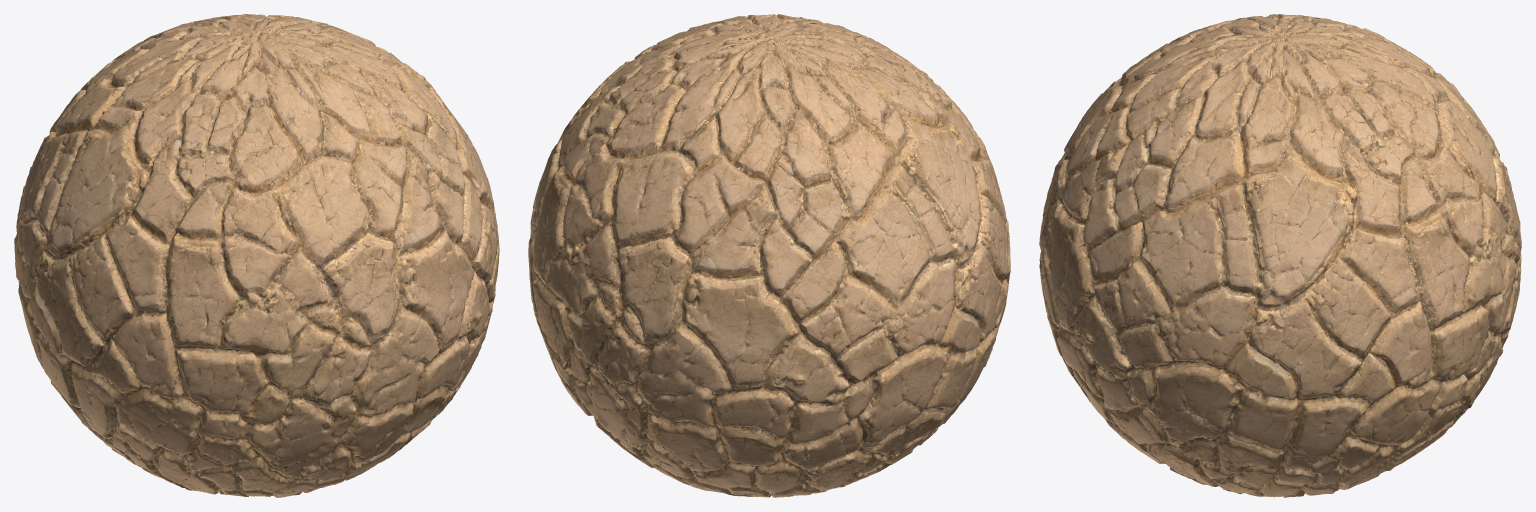
Rendered from mud_cracked_dry_03_1k.gltf.
3 renders of one model, left to right at view 1: azimuth 30°, elevation 25°; view 2: azimuth 150°, elevation 25°; view 3: azimuth 270°, elevation 25°, orthographic.
Parts seen in each view (by area): view 1: sphere_gltf; view 2: sphere_gltf; view 3: sphere_gltf.
Boxes of the visible parts, x1,y1,x2,y2 form: sphere_gltf: (14,14,499,497); sphere_gltf: (528,14,1010,497); sphere_gltf: (1039,14,1521,497).
Size of the model in its own units: 1.52 by 1.52 by 1.52.
1 material, 1 textured.
